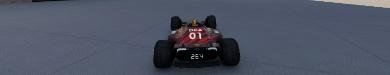Car: (152, 14, 240, 68)
